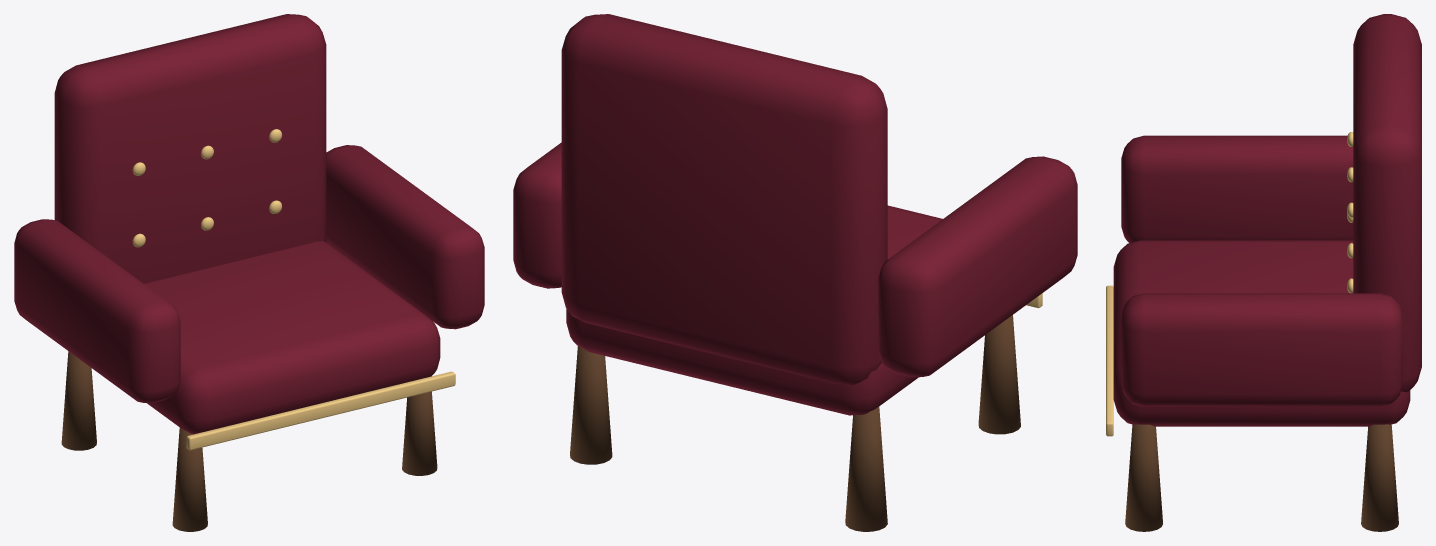
File: armchair.fbx
The picture shows the model from 3 angles, left to right: view 1: azimuth 30°, elevation 25°; view 2: azimuth 150°, elevation 25°; view 3: azimuth 270°, elevation 25°; orthographic projection. The views are drawn at different scales.
Parts seen in each view (by area): view 1: back, seat, arm, arm.001, trim, leg.001, leg, leg.002; view 2: back, arm, seat, arm.001, leg.001, leg.003, leg; view 3: arm.001, arm, back, seat, leg.003, leg.002, trim.
Part boxes in pixels (x1,y1,x2,y2): back: (54, 14, 326, 283); seat: (144, 241, 440, 434); arm: (14, 219, 180, 403); arm.001: (326, 145, 484, 329); trim: (186, 371, 455, 450); leg.001: (61, 351, 96, 450); leg: (172, 427, 207, 531); leg.002: (402, 391, 437, 475); back: (561, 14, 887, 384); arm: (878, 156, 1077, 377); seat: (566, 205, 942, 415); arm.001: (513, 142, 561, 288); leg.001: (845, 406, 887, 531); leg.003: (570, 346, 612, 464); leg: (978, 315, 1020, 434); arm.001: (1121, 293, 1402, 406); arm: (1121, 135, 1353, 242); back: (1353, 14, 1421, 392); seat: (1113, 240, 1410, 426); leg.003: (1361, 424, 1398, 531); leg.002: (1125, 424, 1162, 531); trim: (1106, 285, 1113, 436).
Size of what is drawn, in the model's own units: 114 by 114 by 83.
